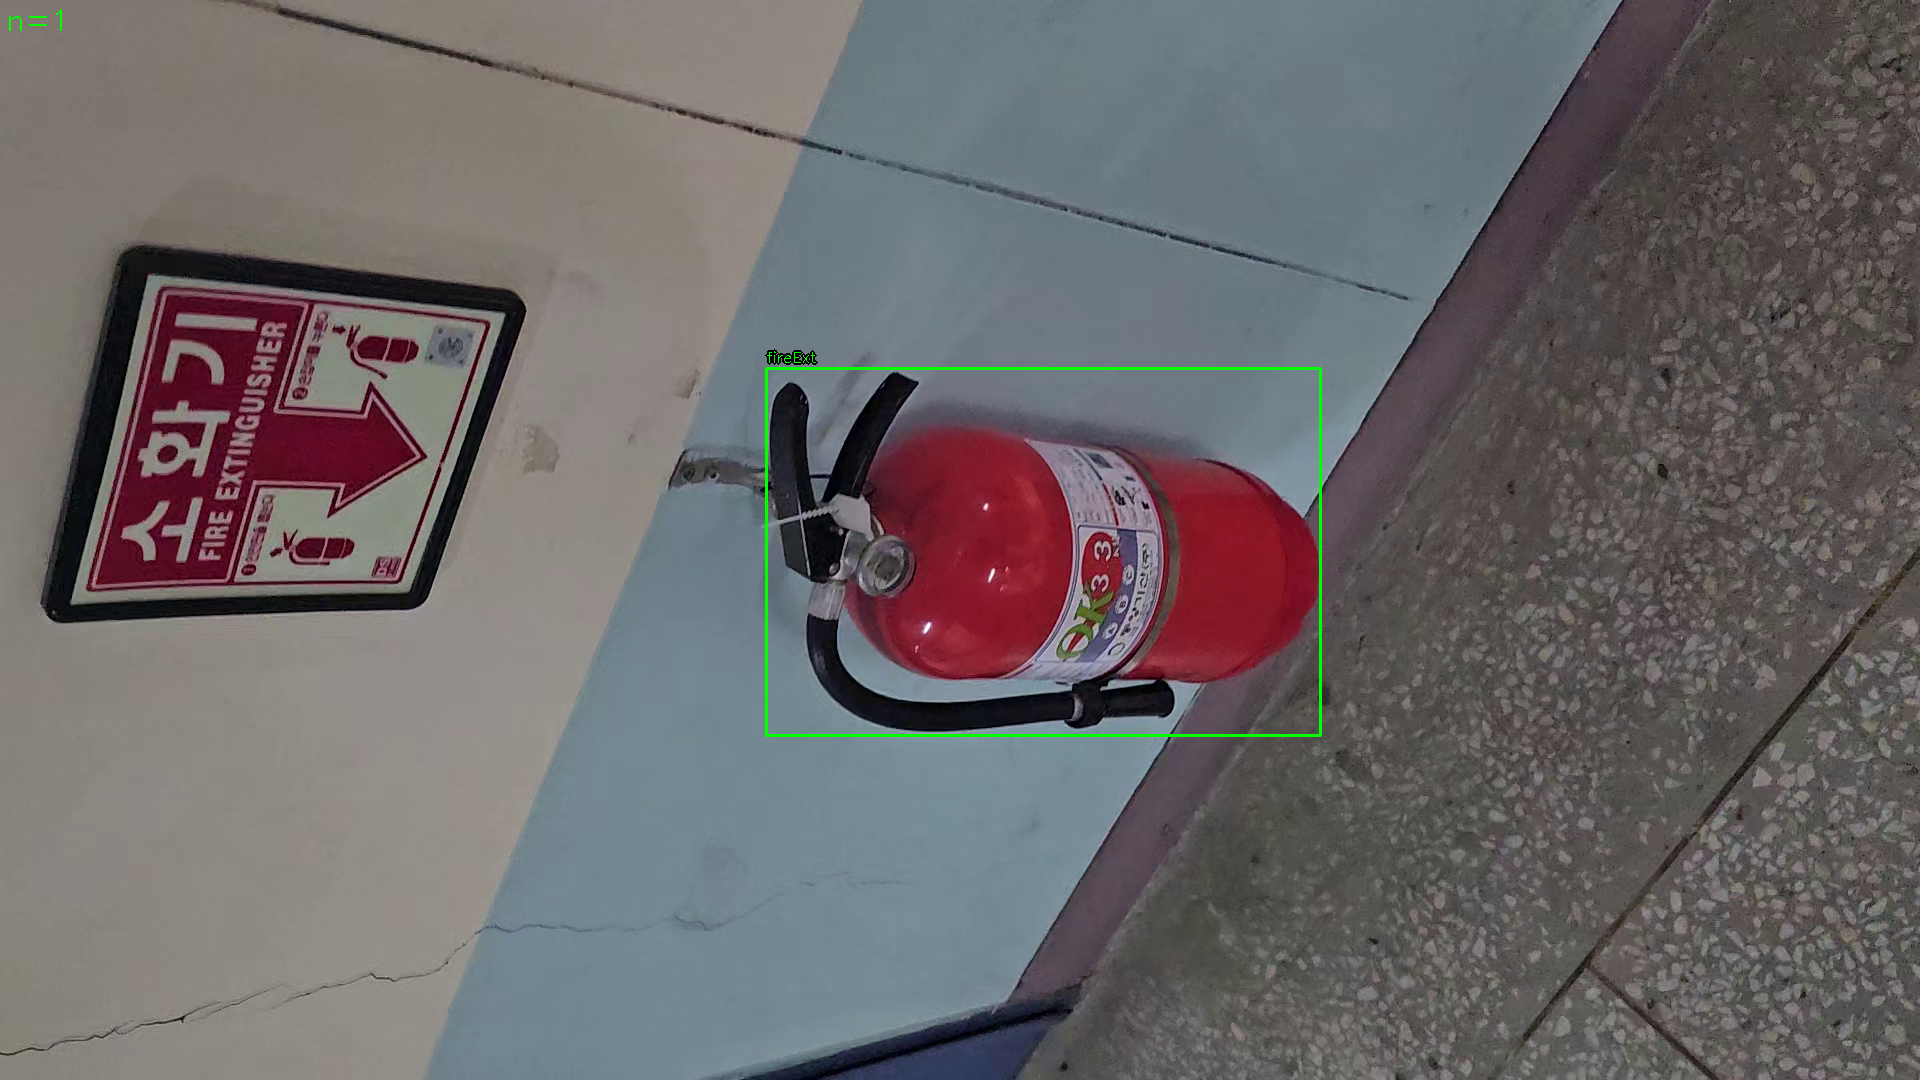lane: (766, 368, 1321, 736)
